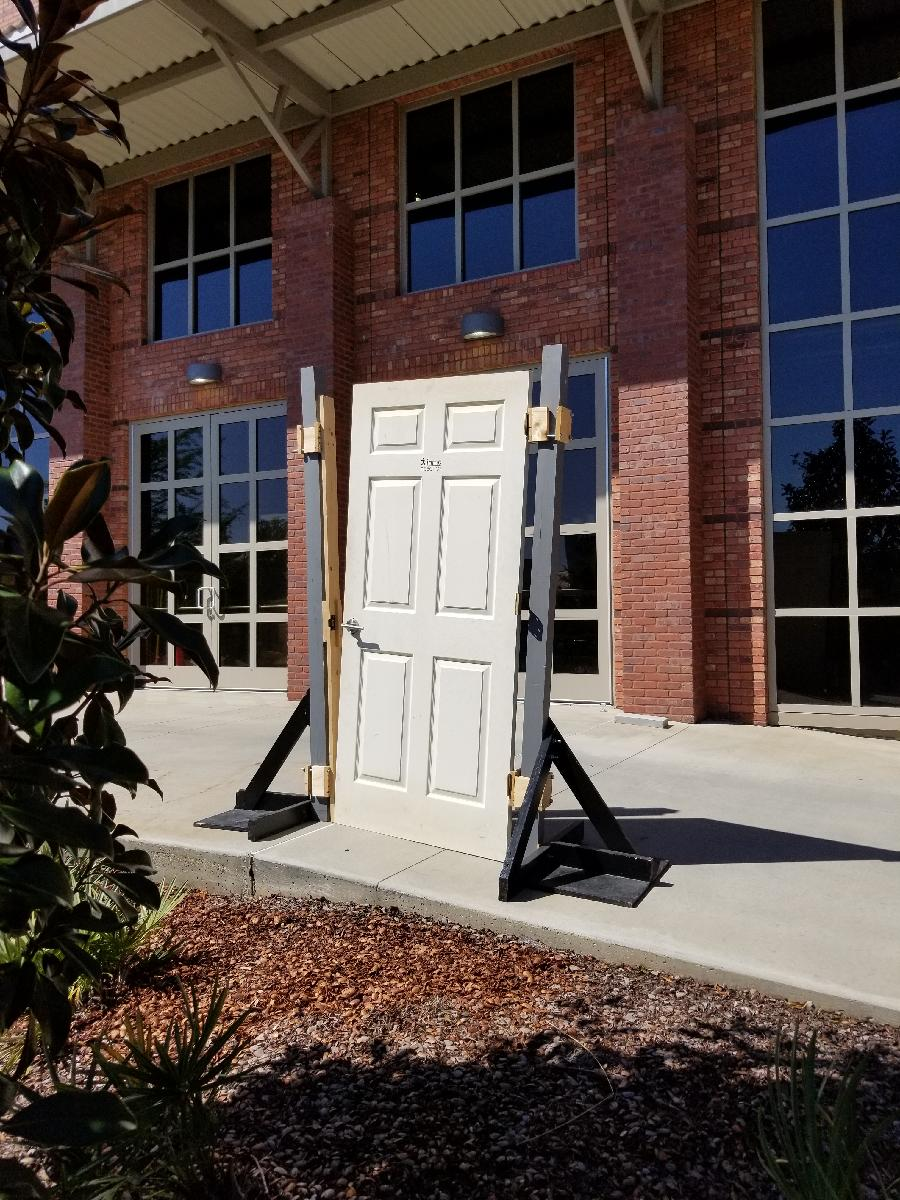door: (327, 368, 537, 871)
doorHandle: (334, 616, 369, 642)
